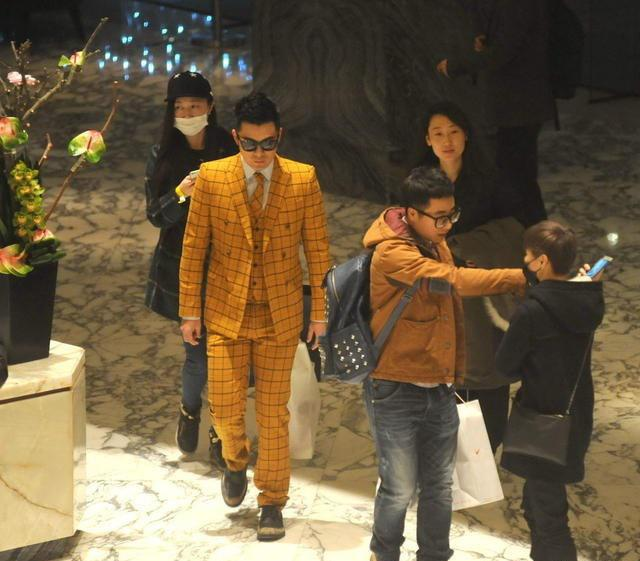NONE: (419, 201, 460, 245), (241, 130, 281, 170), (429, 125, 466, 164)
OK: (521, 250, 557, 286)
WRONG: (173, 98, 212, 137)
